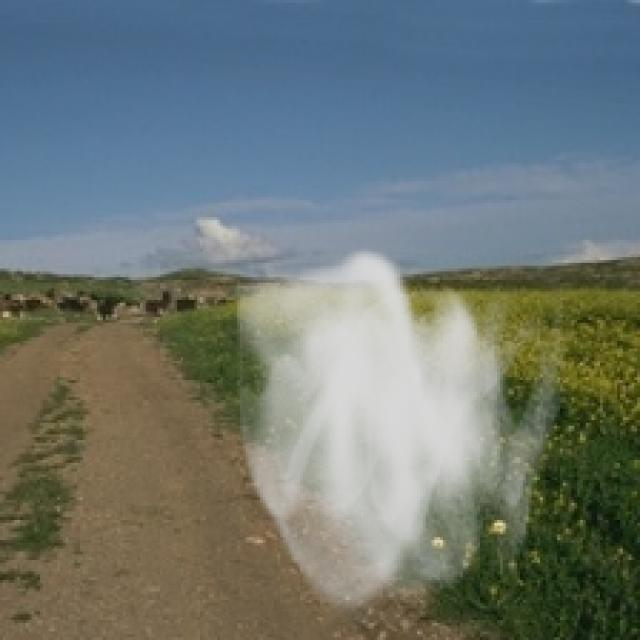smoke: (226, 246, 571, 623)
